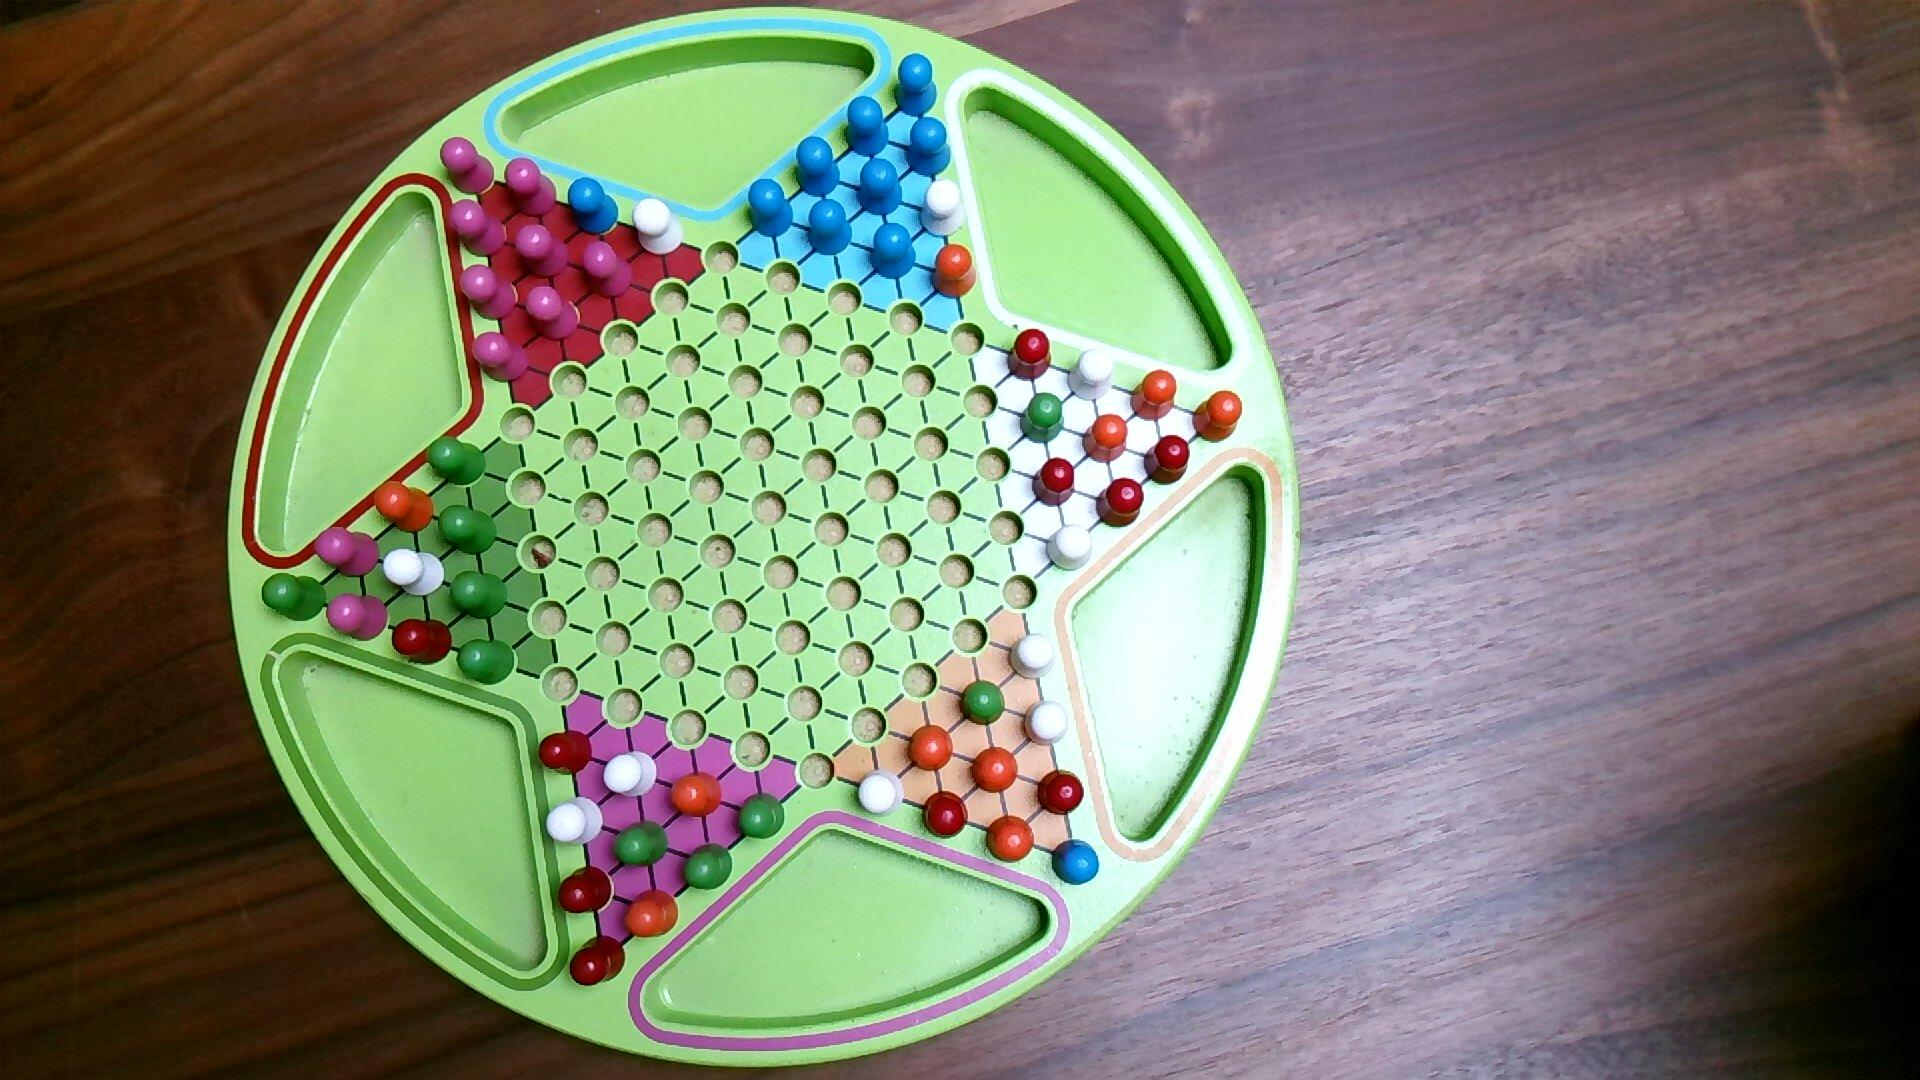B: (567, 175, 621, 237), (794, 135, 843, 199), (905, 115, 953, 179), (891, 51, 939, 117), (843, 95, 891, 158), (806, 196, 855, 258), (746, 178, 795, 240), (856, 156, 905, 218), (869, 222, 918, 282), (1051, 837, 1102, 887)
G: (261, 572, 328, 624), (425, 435, 488, 488), (436, 504, 500, 556), (450, 570, 510, 622), (458, 637, 517, 688), (612, 820, 671, 870), (682, 843, 735, 891), (737, 791, 787, 841), (1019, 392, 1067, 444), (957, 679, 1007, 728)
O: (373, 479, 436, 535), (622, 887, 680, 942), (1192, 389, 1245, 444), (928, 243, 978, 301), (669, 770, 725, 820), (1130, 368, 1179, 423), (985, 814, 1036, 865), (971, 746, 1021, 796), (1083, 413, 1130, 465), (907, 724, 955, 774)
R: (568, 934, 628, 988), (392, 618, 455, 669), (556, 864, 615, 916), (1095, 476, 1146, 531), (537, 728, 595, 777), (1007, 327, 1054, 384), (1036, 767, 1087, 819), (922, 790, 971, 843), (1143, 434, 1192, 487), (1033, 456, 1077, 509)
R2: (446, 198, 509, 260), (313, 525, 381, 579), (458, 264, 520, 322), (504, 156, 559, 220), (513, 223, 572, 281), (440, 136, 497, 196), (580, 239, 636, 301), (324, 592, 390, 644), (525, 284, 582, 343), (471, 331, 531, 385)
W: (632, 196, 684, 258), (382, 549, 447, 599), (545, 795, 605, 848), (918, 177, 968, 239), (603, 750, 659, 799), (1067, 348, 1116, 404), (857, 769, 907, 820), (1044, 522, 1095, 574), (1007, 632, 1058, 682), (1023, 699, 1071, 748)
